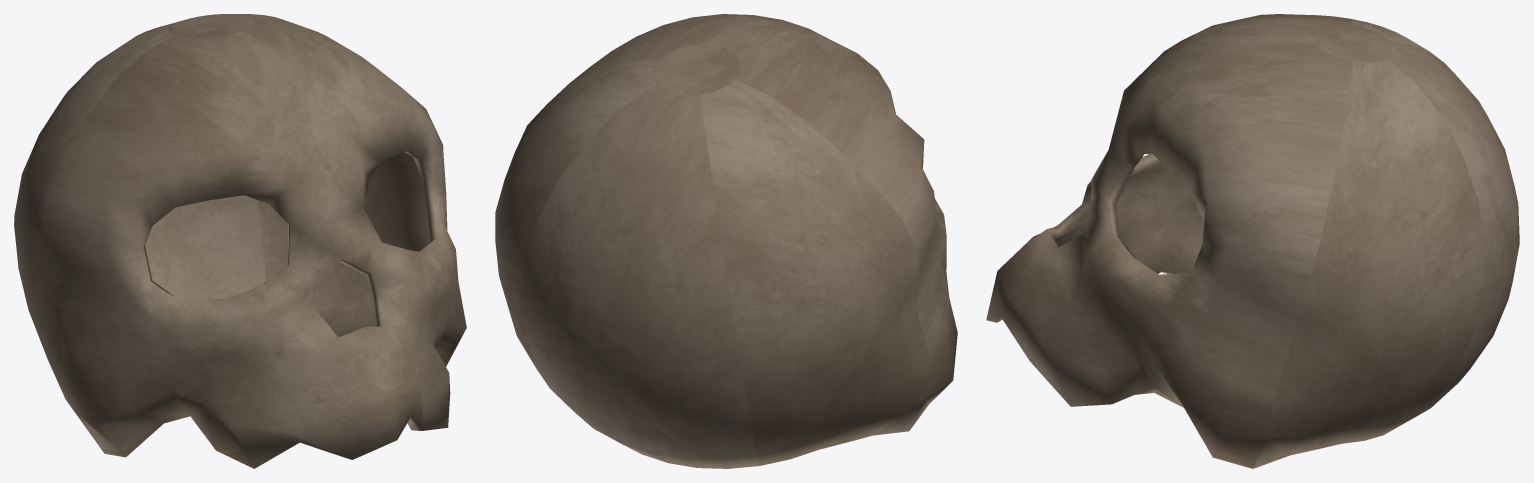
Rendered from Caveira.fbx.
The picture shows the model from 3 angles, left to right: view 1: azimuth 30°, elevation 25°; view 2: azimuth 150°, elevation 25°; view 3: azimuth 270°, elevation 25°; orthographic projection. The views are drawn at different scales.
Visible parts, largest first — view 1: Caveira; view 2: Caveira; view 3: Caveira.
Part boxes in pixels (box(x1,y1,x2,y2)): Caveira: box(14, 14, 466, 468); Caveira: box(495, 14, 957, 468); Caveira: box(986, 14, 1519, 468).
Bounding box in the file's own units: 1411 × 1296 × 1700.
1 material, 1 textured.
